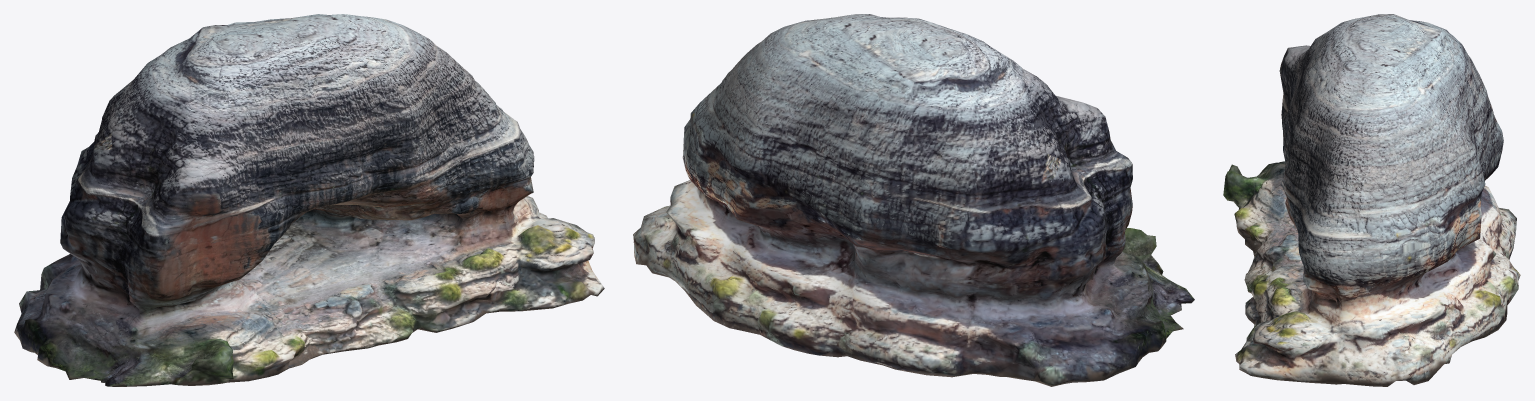
File: CavernaCacador.gltf
The picture shows the model from 3 angles, left to right: view 1: azimuth 30°, elevation 25°; view 2: azimuth 150°, elevation 25°; view 3: azimuth 270°, elevation 25°; orthographic projection. The views are drawn at different scales.
Visible parts, largest first — view 1: AR_CavernaCacador; view 2: AR_CavernaCacador; view 3: AR_CavernaCacador.
Boxes of the visible parts, bbox=[...] form: AR_CavernaCacador: bbox=[14, 14, 604, 386]; AR_CavernaCacador: bbox=[633, 14, 1194, 386]; AR_CavernaCacador: bbox=[1223, 14, 1520, 386].
Bounding box in the file's own units: 66.91 × 34.25 × 38.06.
Materials: 1 (1 with a texture image).
